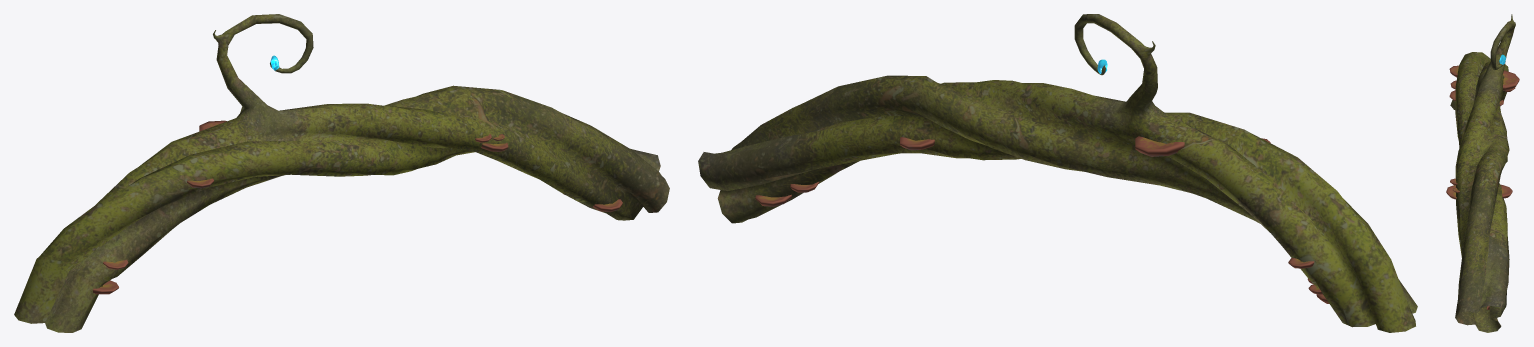
Rendered from GiantTreeBridge.gltf.
The picture shows the model from 3 angles, left to right: view 1: azimuth 30°, elevation 25°; view 2: azimuth 150°, elevation 25°; view 3: azimuth 270°, elevation 25°; orthographic projection. The views are drawn at different scales.
Visible parts, largest first — view 1: pCylinder27_Bridge_root_0; view 2: pCylinder27_Bridge_root_0; view 3: pCylinder27_Bridge_root_0.
Boxes of the visible parts, box(x1,y1,x2,y2) form: pCylinder27_Bridge_root_0: box(14, 14, 669, 332); pCylinder27_Bridge_root_0: box(698, 14, 1417, 332); pCylinder27_Bridge_root_0: box(1446, 14, 1519, 332).
Size of the model in its own units: 486 by 202 by 70.06.
Materials: 1 (1 with a texture image).
